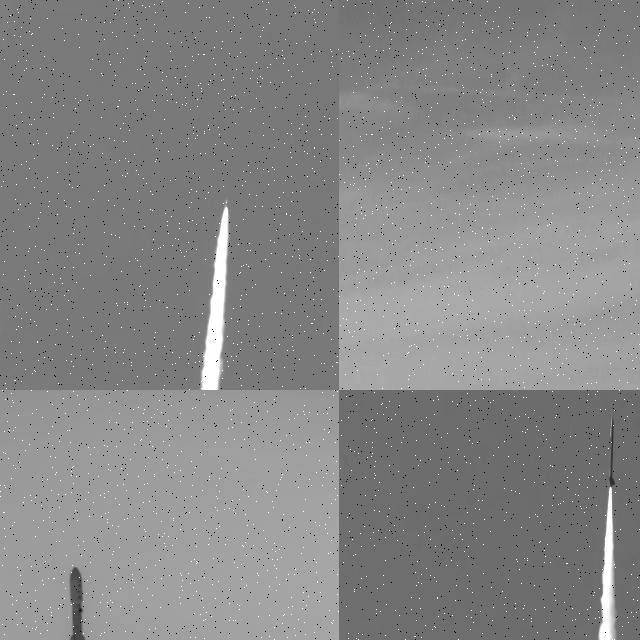Rocket: (69, 566, 86, 640), (607, 409, 616, 490), (225, 198, 228, 208)
